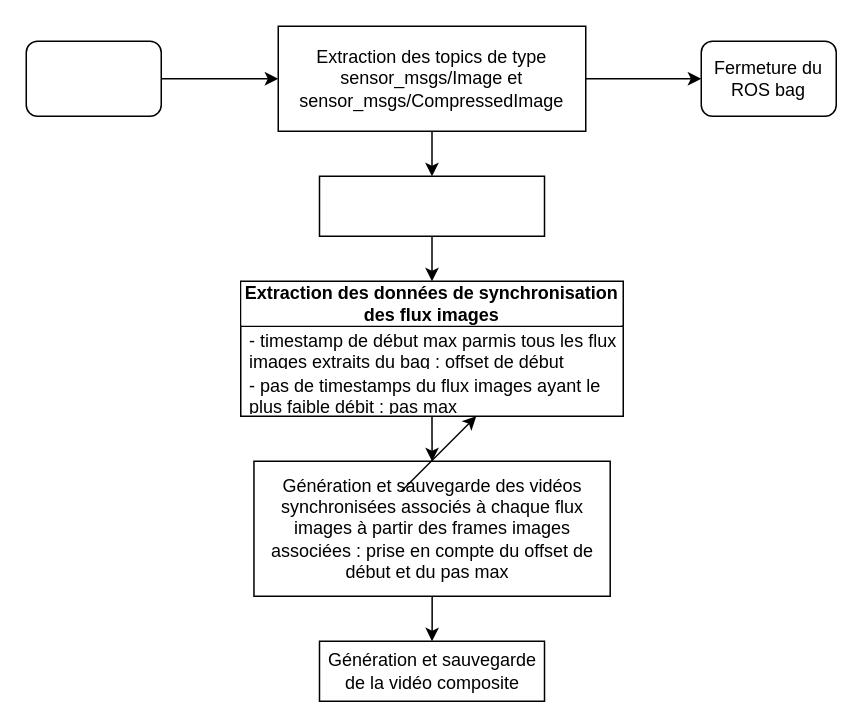
Some shapes in this 863 by 728 pixel diagram are drawn without their labels. Here are the shapes that lost their labels. From the top down, the centre of each, then its label:
At [93,78]: "Ouverture du ROS bag".
At [431,205]: "Décodage des frames images".
